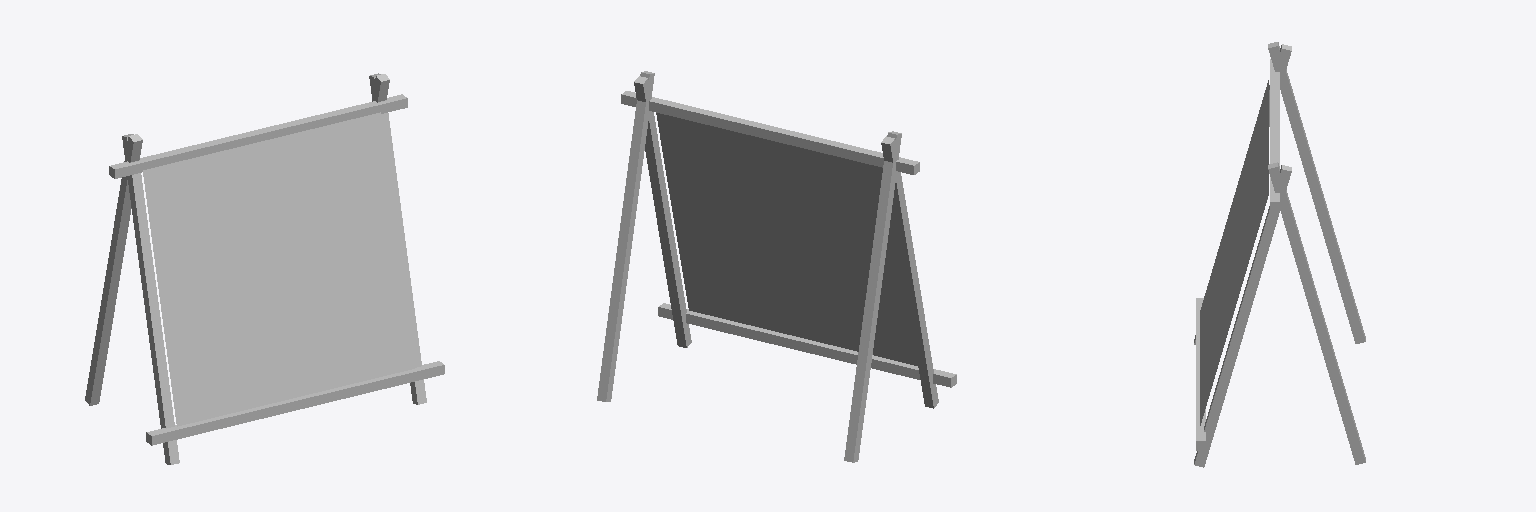
The model's file is 610_cowhide.obj.
The picture shows the model from 3 angles: view 1: azimuth 30°, elevation 25°; view 2: azimuth 150°, elevation 25°; view 3: azimuth 270°, elevation 25°; orthographic projection.
Parts seen in each view (by area): view 1: Shape4, Shape3, Shape7, Shape1, Shape2, Shape5; view 2: Shape4, Shape2, Shape6, Shape1, Shape5, Shape3, Shape7; view 3: Shape4, Shape2, Shape6, Shape5, Shape1, Shape7.
Boxes of the visible parts, <box> form: Shape4: <box>143,112,414,426</box>; Shape3: <box>122,134,179,464</box>; Shape7: <box>146,361,444,445</box>; Shape1: <box>109,94,407,178</box>; Shape2: <box>85,134,142,405</box>; Shape5: <box>369,73,426,404</box>; Shape4: <box>656,113,917,365</box>; Shape2: <box>844,131,901,462</box>; Shape6: <box>597,71,654,401</box>; Shape1: <box>621,91,919,174</box>; Shape5: <box>634,76,691,347</box>; Shape3: <box>881,136,938,408</box>; Shape7: <box>658,303,956,387</box>; Shape4: <box>1200,80,1268,425</box>; Shape2: <box>1268,42,1365,343</box>; Shape6: <box>1268,162,1365,464</box>; Shape5: <box>1194,165,1291,467</box>; Shape1: <box>1270,59,1279,210</box>; Shape7: <box>1196,298,1205,450</box>.
Size of the model in its own units: 2 by 1.98 by 1.02.